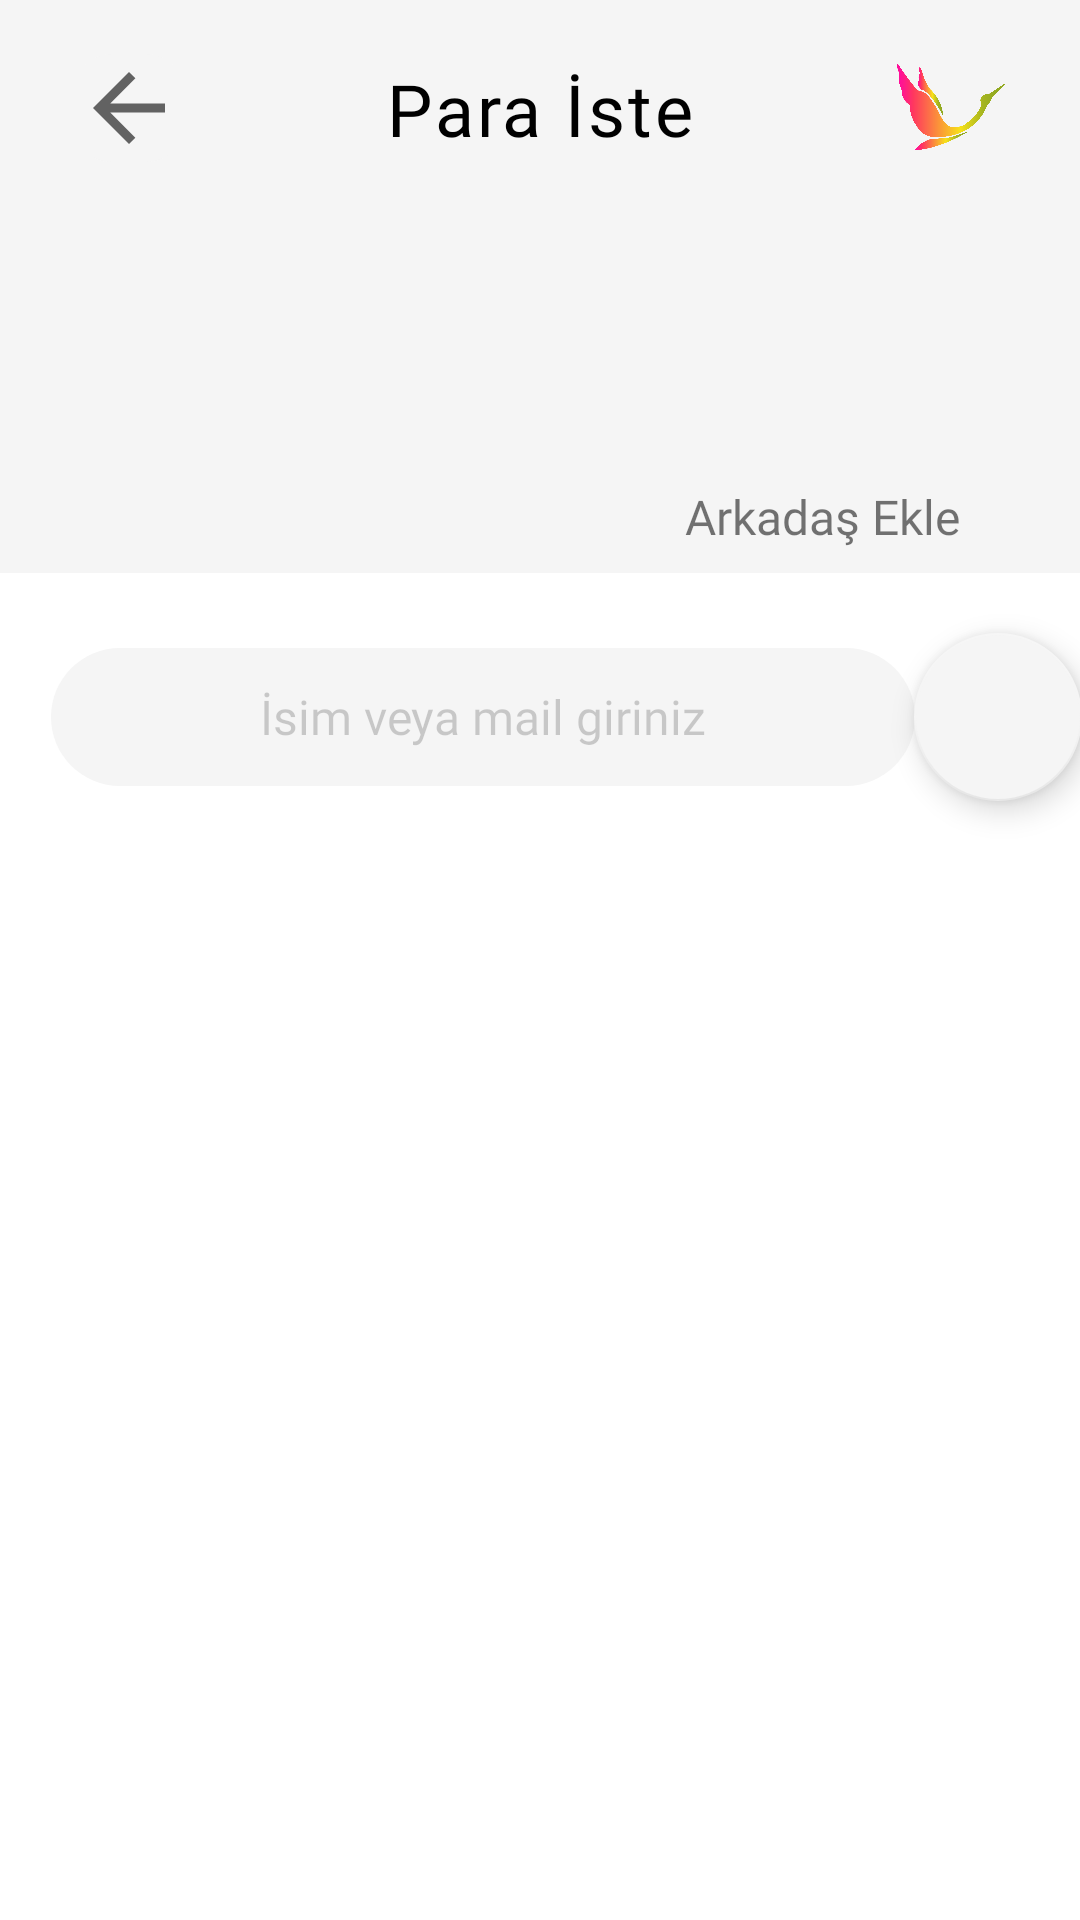

Icon click points for this 1080w x 1920h phone screenshot, format (x,y):
back: (129,108)
stork: (951,107)
